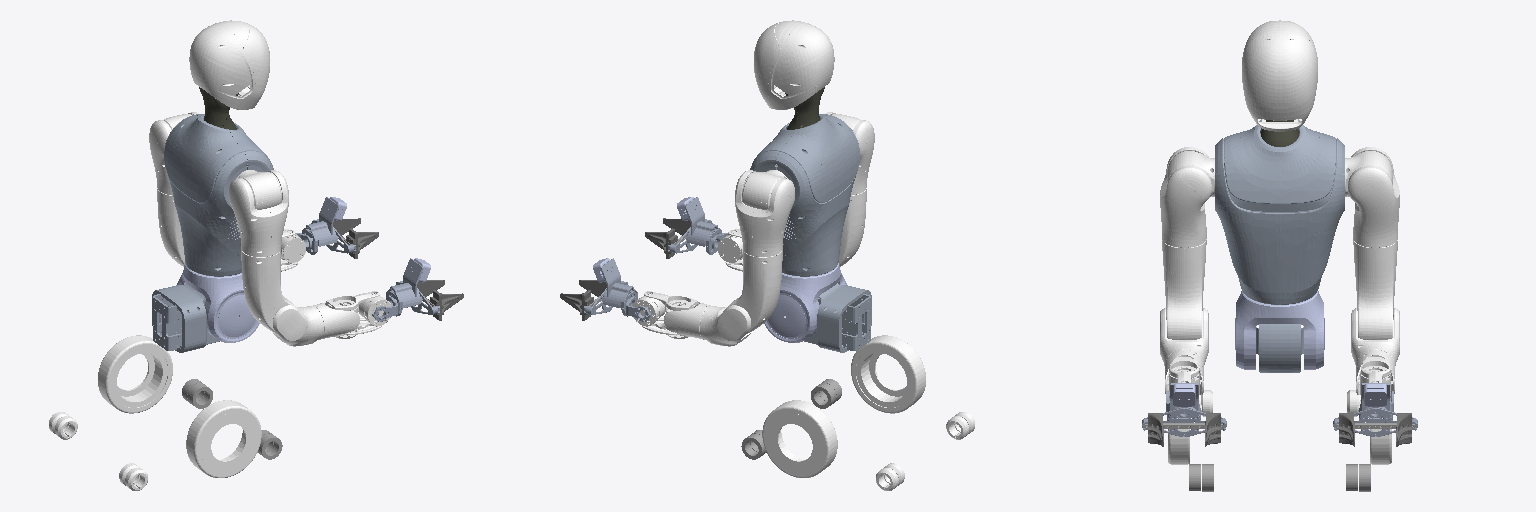
--- Render facts (derived) ---
3 views of the same robot in one strip: view 1: azimuth 30°, elevation 25°; view 2: azimuth 150°, elevation 25°; view 3: azimuth 270°, elevation 25° (orthographic).
Model ZR_H1PRO-1.2.00.H.V4.3_URDF_2025.12.02 with 35 links and 34 joints (18 revolute, 2 continuous, 5 prismatic, 9 fixed), rooted at dipan_link, posed all joints at 0.
Visible links, largest first — view 1: body_yaw_link, neck_pitch_link, right_middle_wheel_link, left_middle_wheel_link, daogui_link, body_pitch_link, right_shoulder_roll_link, right_shoulder_yaw_link, right_wrist_roll_link, right_elbow_link, right_wrist_pitch_link, left_wrist_pitch_link (+9 smaller); view 2: body_yaw_link, neck_pitch_link, left_middle_wheel_link, right_middle_wheel_link, daogui_link, body_pitch_link, left_shoulder_roll_link, left_shoulder_yaw_link, left_wrist_roll_link, left_elbow_link, left_wrist_pitch_link, right_wrist_pitch_link (+9 smaller); view 3: body_yaw_link, neck_pitch_link, body_pitch_link, right_shoulder_roll_link, left_shoulder_roll_link, left_shoulder_yaw_link, right_shoulder_yaw_link, daogui_link, right_wrist_roll_link, left_wrist_roll_link, left_wrist_pitch_link, right_wrist_pitch_link (+11 smaller).
Boxes of the visible links, bbox=[...] form: body_yaw_link: bbox=[164, 114, 273, 276]; neck_pitch_link: bbox=[189, 20, 269, 109]; right_middle_wheel_link: bbox=[186, 400, 261, 477]; left_middle_wheel_link: bbox=[98, 335, 172, 413]; daogui_link: bbox=[152, 283, 219, 352]; body_pitch_link: bbox=[177, 263, 259, 342]; right_shoulder_roll_link: bbox=[229, 170, 288, 256]; right_shoulder_yaw_link: bbox=[241, 250, 295, 333]; right_wrist_roll_link: bbox=[313, 291, 381, 338]; right_elbow_link: bbox=[270, 305, 323, 346]; right_wrist_pitch_link: bbox=[372, 258, 439, 321]; left_wrist_pitch_link: bbox=[296, 197, 355, 254]; body_yaw_link: bbox=[750, 114, 859, 276]; neck_pitch_link: bbox=[754, 20, 834, 109]; left_middle_wheel_link: bbox=[762, 400, 837, 477]; right_middle_wheel_link: bbox=[851, 335, 925, 413]; daogui_link: bbox=[804, 283, 871, 352]; body_pitch_link: bbox=[764, 263, 846, 342]; left_shoulder_roll_link: bbox=[735, 170, 794, 256]; left_shoulder_yaw_link: bbox=[728, 250, 782, 333]; left_wrist_roll_link: bbox=[642, 291, 710, 338]; left_elbow_link: bbox=[700, 305, 753, 346]; left_wrist_pitch_link: bbox=[584, 258, 651, 321]; right_wrist_pitch_link: bbox=[668, 197, 727, 254]; body_yaw_link: bbox=[1215, 119, 1344, 304]; neck_pitch_link: bbox=[1242, 20, 1317, 131]; body_pitch_link: bbox=[1235, 291, 1324, 369]; right_shoulder_roll_link: bbox=[1160, 147, 1211, 247]; left_shoulder_roll_link: bbox=[1348, 147, 1399, 247]; left_shoulder_yaw_link: bbox=[1353, 240, 1397, 339]; right_shoulder_yaw_link: bbox=[1162, 240, 1206, 339]; daogui_link: bbox=[1256, 324, 1303, 372]; right_wrist_roll_link: bbox=[1165, 350, 1203, 411]; left_wrist_roll_link: bbox=[1356, 350, 1394, 411]; left_wrist_pitch_link: bbox=[1333, 383, 1417, 436]; right_wrist_pitch_link: bbox=[1142, 383, 1226, 436].
Size in the robot's own frame: 0.7999 by 0.52 by 0.9583 metres.
33 mesh visuals loaded from 35 distinct referenced files (33 binary STL); not drawn: 2 (reference not matched to a file when rendering).

The robot description file, URDF, robot "ZR_H1PRO-1.2.00.H.V4.3_URDF_2025.12.02":
<?xml version="1.0" encoding="utf-8"?>
<!-- This URDF was automatically created by SolidWorks to URDF Exporter! Originally created by Stephen Brawner ([email redacted]) 
     Commit Version: 1.6.0-4-g7f85cfe  Build Version: 1.6.7995.38578
     For more information, please see http://wiki.ros.org/sw_urdf_exporter -->
<robot
  name="ZR_H1PRO-1.2.00.H.V4.3_URDF_2025.12.02">
  <link
    name="dipan_link">
    <inertial>
      <origin
        xyz="0.00021947 -0.00045719 0.08921288"
        rpy="0 0 0" />
      <mass
        value="92.40985888" />
      <inertia
        ixx="12.0810981"
        ixy="-0.00505423"
        ixz="1.25403037"
        iyy="12.71175466"
        iyz="-0.00705268"
        izz="2.84527064" />
    </inertial>
    <visual>
      <origin
        xyz="0 0 0"
        rpy="0 0 0" />
      <geometry>
        <mesh
          filename="package://ZR_H1PRO-1.2.00.H.V4.3_URDF_2025.12.02/meshes/dipan_link.STL" />
      </geometry>
      <material
        name="">
        <color
          rgba="1 1 1 1" />
      </material>
    </visual>
    <collision>
      <origin
        xyz="0 0 0"
        rpy="0 0 0" />
      <geometry>
        <mesh
          filename="package://ZR_H1PRO-1.2.00.H.V4.3_URDF_2025.12.02/meshes/dipan_link.STL" />
      </geometry>
    </collision>
  </link>
  <link
    name="daogui_link">
    <inertial>
      <origin
        xyz="0.11560518 0.00060964 0.12206768"
        rpy="0 0 0" />
      <mass
        value="4.61714" />
      <inertia
        ixx="0.00837134"
        ixy="9.116e-05"
        ixz="-0.00126268"
        iyy="0.02136748"
        iyz="-5.34e-06"
        izz="0.02010722" />
    </inertial>
    <visual>
      <origin
        xyz="0 0 0"
        rpy="0 0 0" />
      <geometry>
        <mesh
          filename="package://ZR_H1PRO-1.2.00.H.V4.3_URDF_2025.12.02/meshes/daogui_link.STL" />
      </geometry>
      <material
        name="">
        <color
          rgba="0.66667 0.70588 0.76471 1" />
      </material>
    </visual>
    <collision>
      <origin
        xyz="0 0 0"
        rpy="0 0 0" />
      <geometry>
        <mesh
          filename="package://ZR_H1PRO-1.2.00.H.V4.3_URDF_2025.12.02/meshes/daogui_link.STL" />
      </geometry>
    </collision>
  </link>
  <joint
    name="daogui_joint"
    type="prismatic">
    <origin
      xyz="0 0 0"
      rpy="0 0 0" />
    <parent
      link="dipan_link" />
    <child
      link="daogui_link" />
    <axis
      xyz="0 0 1" />
    <limit
      lower="0"
      upper="0.8"
      effort="0"
      velocity="0" />
  </joint>
  <link
    name="body_pitch_link">
    <inertial>
      <origin
        xyz="-0.00013249 0.00049551 0.10848426"
        rpy="0 0 0" />
      <mass
        value="3.528" />
      <inertia
        ixx="0.01235314"
        ixy="-9.38e-06"
        ixz="6.133e-05"
        iyy="0.01092549"
        iyz="0.00020606"
        izz="0.00739427" />
    </inertial>
    <visual>
      <origin
        xyz="0 0 0"
        rpy="0 0 0" />
      <geometry>
        <mesh
          filename="package://ZR_H1PRO-1.2.00.H.V4.3_URDF_2025.12.02/meshes/body_pitch_link.STL" />
      </geometry>
      <material
        name="">
        <color
          rgba="0.79216 0.81961 0.93333 1" />
      </material>
    </visual>
    <collision>
      <origin
        xyz="0 0 0"
        rpy="0 0 0" />
      <geometry>
        <mesh
          filename="package://ZR_H1PRO-1.2.00.H.V4.3_URDF_2025.12.02/meshes/body_pitch_link.STL" />
      </geometry>
    </collision>
  </link>
  <joint
    name="body_pitch_joint"
    type="revolute">
    <origin
      xyz="0.1518 0 0.1275"
      rpy="0 0 0" />
    <parent
      link="daogui_link" />
    <child
      link="body_pitch_link" />
    <axis
      xyz="0 1 0" />
    <limit
      lower="-0.05236"
      upper="1.309"
      effort="204"
      velocity="3.14" />
  </joint>
  <link
    name="body_yaw_link">
    <inertial>
      <origin
        xyz="-0.00140951 0.00031062 0.13782806"
        rpy="0 0 0" />
      <mass
        value="3.85886409" />
      <inertia
        ixx="0.03623808"
        ixy="-3.118e-05"
        ixz="0.00019346"
        iyy="0.02298934"
        iyz="3.738e-05"
        izz="0.02244436" />
    </inertial>
    <visual>
      <origin
        xyz="0 0 0"
        rpy="0 0 0" />
      <geometry>
        <mesh
          filename="package://ZR_H1PRO-1.2.00.H.V4.3_URDF_2025.12.02/meshes/body_yaw_link.STL" />
      </geometry>
      <material
        name="">
        <color
          rgba="0.66667 0.70588 0.76471 1" />
      </material>
    </visual>
    <collision>
      <origin
        xyz="0 0 0"
        rpy="0 0 0" />
      <geometry>
        <mesh
          filename="package://ZR_H1PRO-1.2.00.H.V4.3_URDF_2025.12.02/meshes/body_yaw_link.STL" />
      </geometry>
    </collision>
  </link>
  <joint
    name="body_yaw_joint"
    type="revolute">
    <origin
      xyz="2.7149E-05 -0.00012105 0.1572"
      rpy="0 0 0" />
    <parent
      link="body_pitch_link" />
    <child
      link="body_yaw_link" />
    <axis
      xyz="0 0 1" />
    <limit
      lower="-1.0472"
      upper="1.0472"
      effort="204"
      velocity="3.14" />
  </joint>
  <link
    name="left_shoulder_pitch_link">
    <inertial>
      <origin
        xyz="-0.00318713 0.04899419 0.00017253"
        rpy="0 0 0" />
      <mass
        value="0.64195" />
      <inertia
        ixx="0.00045222"
        ixy="4.1e-06"
        ixz="1.97e-06"
        iyy="0.00047136"
        iyz="-1.26e-06"
        izz="0.00059588" />
    </inertial>
    <visual>
      <origin
        xyz="0 0 0"
        rpy="0 0 0" />
      <geometry>
        <mesh
          filename="package://ZR_H1PRO-1.2.00.H.V4.3_URDF_2025.12.02/meshes/left_shoulder_pitch_link.STL" />
      </geometry>
      <material
        name="">
        <color
          rgba="1 1 1 1" />
      </material>
    </visual>
    <collision>
      <origin
        xyz="0 0 0"
        rpy="0 0 0" />
      <geometry>
        <mesh
          filename="package://ZR_H1PRO-1.2.00.H.V4.3_URDF_2025.12.02/meshes/left_shoulder_pitch_link.STL" />
      </geometry>
    </collision>
  </link>
  <joint
    name="left_shoulder_pitch_joint"
    type="revolute">
    <origin
      xyz="-0.00021966 0.11612 0.16797"
      rpy="0 0 0" />
    <parent
      link="body_yaw_link" />
    <child
      link="left_shoulder_pitch_link" />
    <axis
      xyz="0 1 0" />
    <limit
      lower="-2.7925"
      upper="1.5708"
      effort="36"
      velocity="8.164" />
  </joint>
  <link
    name="left_shoulder_roll_link">
    <inertial>
      <origin
        xyz="0.00026688 0.00923491 -0.07177934"
        rpy="0 0 0" />
      <mass
        value="0.74474" />
      <inertia
        ixx="0.00140268"
        ixy="5.1e-06"
        ixz="-3.427e-05"
        iyy="0.00171477"
        iyz="5.976e-05"
        izz="0.00086884" />
    </inertial>
    <visual>
      <origin
        xyz="0 0 0"
        rpy="0 0 0" />
      <geometry>
        <mesh
          filename="package://ZR_H1PRO-1.2.00.H.V4.3_URDF_2025.12.02/meshes/left_shoulder_roll_link.STL" />
      </geometry>
      <material
        name="">
        <color
          rgba="1 1 1 1" />
      </material>
    </visual>
    <collision>
      <origin
        xyz="0 0 0"
        rpy="0 0 0" />
      <geometry>
        <mesh
          filename="package://ZR_H1PRO-1.2.00.H.V4.3_URDF_2025.12.02/meshes/left_shoulder_roll_link.STL" />
      </geometry>
    </collision>
  </link>
  <joint
    name="left_shoulder_roll_joint"
    type="revolute">
    <origin
      xyz="0.00019251 0.054 0.00013479"
      rpy="0 0 0" />
    <parent
      link="left_shoulder_pitch_link" />
    <child
      link="left_shoulder_roll_link" />
    <axis
      xyz="1 0 0" />
    <limit
      lower="-0.5236"
      upper="2.0944"
      effort="36"
      velocity="8.164" />
  </joint>
  <link
    name="left_shoulder_yaw_link">
    <inertial>
      <origin
        xyz="0.02386961 -0.00041351 -0.12487547"
        rpy="0 0 0" />
      <mass
        value="0.86464" />
      <inertia
        ixx="0.0031744"
        ixy="5.93e-06"
        ixz="0.00082261"
        iyy="0.00347038"
        iyz="-1.674e-05"
        izz="0.00088318" />
    </inertial>
    <visual>
      <origin
        xyz="0 0 0"
        rpy="0 0 0" />
      <geometry>
        <mesh
          filename="package://ZR_H1PRO-1.2.00.H.V4.3_URDF_2025.12.02/meshes/left_shoulder_yaw_link.STL" />
      </geometry>
      <material
        name="">
        <color
          rgba="1 1 1 1" />
      </material>
    </visual>
    <collision>
      <origin
        xyz="0 0 0"
        rpy="0 0 0" />
      <geometry>
        <mesh
          filename="package://ZR_H1PRO-1.2.00.H.V4.3_URDF_2025.12.02/meshes/left_shoulder_yaw_link.STL" />
      </geometry>
    </collision>
  </link>
  <joint
    name="left_shoulder_yaw_joint"
    type="revolute">
    <origin
      xyz="0 0.01 -0.12225"
      rpy="0 0 0" />
    <parent
      link="left_shoulder_roll_link" />
    <child
      link="left_shoulder_yaw_link" />
    <axis
      xyz="0 0 1" />
    <limit
      lower="-2.9671"
      upper="2.9671"
      effort="27"
      velocity="7.3267" />
  </joint>
  <link
    name="left_elbow_link">
    <inertial>
      <origin
        xyz="0.03098556 0.00057542 -0.0288024"
        rpy="0 0 0" />
      <mass
        value="0.33048" />
      <inertia
        ixx="0.0004881"
        ixy="1.78e-06"
        ixz="0.00012277"
        iyy="0.00048504"
        iyz="-2.1e-06"
        izz="0.00054349" />
    </inertial>
    <visual>
      <origin
        xyz="0 0 0"
        rpy="0 0 0" />
      <geometry>
        <mesh
          filename="package://ZR_H1PRO-1.2.00.H.V4.3_URDF_2025.12.02/meshes/left_elbow_link.STL" />
      </geometry>
      <material
        name="">
        <color
          rgba="1 1 1 1" />
      </material>
    </visual>
    <collision>
      <origin
        xyz="0 0 0"
        rpy="0 0 0" />
      <geometry>
        <mesh
          filename="package://ZR_H1PRO-1.2.00.H.V4.3_URDF_2025.12.02/meshes/left_elbow_link.STL" />
      </geometry>
    </collision>
  </link>
  <joint
    name="left_elbow_joint"
    type="revolute">
    <origin
      xyz="0.042 0 -0.16775"
      rpy="0 0 0" />
    <parent
      link="left_shoulder_yaw_link" />
    <child
      link="left_elbow_link" />
    <axis
      xyz="0 1 0" />
    <limit
      lower="-1.5184"
      upper="1.5708"
      effort="27"
      velocity="7.3267" />
  </joint>
  <link
    name="left_wrist_roll_link">
    <inertial>
      <origin
        xyz="0.06375062 -5.405e-05 -0.0009515"
        rpy="0 0 0" />
      <mass
        value="0.865677" />
      <inertia
        ixx="0.00052491"
        ixy="-6.1e-07"
        ixz="3.461e-05"
        iyy="0.00159541"
        iyz="6.3e-07"
        izz="0.00149224" />
    </inertial>
    <visual>
      <origin
        xyz="0 0 0"
        rpy="0 0 0" />
      <geometry>
        <mesh
          filename="package://ZR_H1PRO-1.2.00.H.V4.3_URDF_2025.12.02/meshes/left_wrist_roll_link.STL" />
      </geometry>
      <material
        name="">
        <color
          rgba="1 1 1 1" />
      </material>
    </visual>
    <collision>
      <origin
        xyz="0 0 0"
        rpy="0 0 0" />
      <geometry>
        <mesh
          filename="package://ZR_H1PRO-1.2.00.H.V4.3_URDF_2025.12.02/meshes/left_wrist_roll_link.STL" />
      </geometry>
    </collision>
  </link>
  <joint
    name="left_wrist_roll_joint"
    type="revolute">
    <origin
      xyz="0.07422 0 -0.042"
      rpy="0 0 0" />
    <parent
      link="left_elbow_link" />
    <child
      link="left_wrist_roll_link" />
    <axis
      xyz="1 0 0" />
    <limit
      lower="-2.9671"
      upper="2.9671"
      effort="0"
      velocity="0" />
  </joint>
  <link
    name="left_wrist_yaw_link">
    <inertial>
      <origin
        xyz="0.0 0.0033242 -0.00085429"
        rpy="0 0 0" />
      <mass
        value="0.344922" />
      <inertia
        ixx="0.00015509"
        ixy="-0.0"
        ixz="3e-08"
        iyy="0.00016396"
        iyz="-2.04e-06"
        izz="0.0001271" />
    </inertial>
    <visual>
      <origin
        xyz="0 0 0"
        rpy="0 0 0" />
      <geometry>
        <mesh
          filename="package://ZR_H1PRO-1.2.00.H.V4.3_URDF_2025.12.02/meshes/left_wrist_yaw_link.STL" />
      </geometry>
      <material
        name="">
        <color
          rgba="1 1 1 1" />
      </material>
    </visual>
    <collision>
      <origin
        xyz="0 0 0"
        rpy="0 0 0" />
      <geometry>
        <mesh
          filename="package://ZR_H1PRO-1.2.00.H.V4.3_URDF_2025.12.02/meshes/left_wrist_yaw_link.STL" />
      </geometry>
    </collision>
  </link>
  <joint
    name="left_wrist_yaw_joint"
    type="revolute">
    <origin
      xyz="0.16278 0 0"
      rpy="0 0 0" />
    <parent
      link="left_wrist_roll_link" />
    <child
      link="left_wrist_yaw_link" />
    <axis
      xyz="0 0 1" />
    <limit
      lower="-1.0472"
      upper="1.0472"
      effort="9"
      velocity="16.747" />
  </joint>
  <link
    name="left_wrist_pitch_link">
    <inertial>
      <origin
        xyz="0.07825733 0.00143511 0.00315751"
        rpy="0 0 0" />
      <mass
        value="0.5139" />
      <inertia
        ixx="0.00046134"
        ixy="4.762e-05"
        ixz="-1.314e-05"
        iyy="0.00044669"
        iyz="-5.2e-07"
        izz="0.00060413" />
    </inertial>
    <visual>
      <origin
        xyz="0 0 0"
        rpy="0 0 0" />
      <geometry>
        <mesh
          filename="package://ZR_H1PRO-1.2.00.H.V4.3_URDF_2025.12.02/meshes/left_wrist_pitch_link.STL" />
      </geometry>
      <material
        name="">
        <color
          rgba="0.66667 0.69804 0.76863 1" />
      </material>
    </visual>
    <collision>
      <origin
        xyz="0 0 0"
        rpy="0 0 0" />
      <geometry>
        <mesh
          filename="package://ZR_H1PRO-1.2.00.H.V4.3_URDF_2025.12.02/meshes/left_wrist_pitch_link.STL" />
      </geometry>
    </collision>
  </link>
  <joint
    name="left_wrist_pitch_joint"
    type="revolute">
    <origin
      xyz="0 0 0"
      rpy="0 0 0" />
    <parent
      link="left_wrist_yaw_link" />
    <child
      link="left_wrist_pitch_link" />
    <axis
      xyz="0 1 0" />
    <limit
      lower="-1.0472"
      upper="1.0472"
      effort="9"
      velocity="16.747" />
  </joint>
  <link
    name="left_jaw_left_finger_link">
    <inertial>
      <origin
        xyz="0.02875166 0.04972677 -0.00087113"
        rpy="0 0 0" />
      <mass
        value="0.057096" />
      <inertia
        ixx="1.643e-05"
        ixy="2.46e-06"
        ixz="1.89e-06"
        iyy="2.627e-05"
        iyz="4.7e-07"
        izz="2.05e-05" />
    </inertial>
    <visual>
      <origin
        xyz="0 0 0"
        rpy="0 0 0" />
      <geometry>
        <mesh
          filename="package://ZR_H1PRO-1.2.00.H.V4.3_URDF_2025.12.02/meshes/left_jaw_left_finger_link.STL" />
      </geometry>
      <material
        name="">
        <color
          rgba="0.49804 0.49804 0.49804 1" />
      </material>
    </visual>
    <collision>
      <origin
        xyz="0 0 0"
        rpy="0 0 0" />
      <geometry>
        <mesh
          filename="package://ZR_H1PRO-1.2.00.H.V4.3_URDF_2025.12.02/meshes/left_jaw_left_finger_link.STL" />
      </geometry>
    </collision>
  </link>
  <joint
    name="left_jaw_left_finger_joint"
    type="prismatic">
    <origin
      xyz="0.102 0 0"
      rpy="0 0 0" />
    <parent
      link="left_wrist_pitch_link" />
    <child
      link="left_jaw_left_finger_link" />
    <axis
      xyz="0 1 0" />
    <limit
      lower="-0.04"
      upper="0"
      effort="120"
      velocity="0.25" />
  </joint>
  <link
    name="left_jaw_right_finger_link">
    <inertial>
      <origin
        xyz="0.02884254 -0.05065805 -0.00142222"
        rpy="0 0 0" />
      <mass
        value="0.057987" />
      <inertia
        ixx="1.518e-05"
        ixy="-3.71e-06"
        ixz="1.14e-06"
        iyy="2.561e-05"
        iyz="3.1e-07"
        izz="1.872e-05" />
    </inertial>
    <visual>
      <origin
        xyz="0 0 0"
        rpy="0 0 0" />
      <geometry>
        <mesh
          filename="package://ZR_H1PRO-1.2.00.H.V4.3_URDF_2025.12.02/meshes/left_jaw_right_finger_link.STL" />
      </geometry>
      <material
        name="">
        <color
          rgba="0.49804 0.49804 0.49804 1" />
      </material>
    </visual>
    <collision>
      <origin
        xyz="0 0 0"
        rpy="0 0 0" />
      <geometry>
        <mesh
          filename="package://ZR_H1PRO-1.2.00.H.V4.3_URDF_2025.12.02/meshes/left_jaw_right_finger_link.STL" />
      </geometry>
    </collision>
  </link>
  <joint
    name="left_jaw_right_finger_joint"
    type="prismatic">
    <origin
      xyz="0.102 0 0"
      rpy="0 0 0" />
    <parent
      link="left_wrist_pitch_link" />
    <child
      link="left_jaw_right_finger_link" />
    <axis
      xyz="0 1 0" />
    <limit
      lower="0"
      upper="0.04"
      effort="120"
      velocity="0.25" />
  </joint>
  <link
    name="left_jaw_camera_link">
    <inertial>
      <origin
        xyz="0.0 0.005 -0.01561719"
        rpy="0 0 0" />
      <mass
        value="0.05789" />
      <inertia
        ixx="1.081e-05"
        ixy="-0.0"
        ixz="-0.0"
        iyy="1.08e-05"
        iyz="-0.0"
        izz="1.658e-05" />
    </inertial>
    <visual>
      <origin
        xyz="0 0 0"
        rpy="0 0 0" />
      <geometry>
        <mesh
          filename="package://ZR_H1PRO-1.2.00.H.V4.3_URDF_2025.12.02/meshes/left_jaw_camera_link.STL" />
      </geometry>
      <material
        name="">
        <color
          rgba="0.79216 0.81961 0.93333 1" />
      </material>
    </visual>
    <collision>
      <origin
        xyz="0 0 0"
        rpy="0 0 0" />
      <geometry>
        <mesh
          filename="package://ZR_H1PRO-1.2.00.H.V4.3_URDF_2025.12.02/meshes/left_jaw_camera_link.STL" />
      </geometry>
    </collision>
  </link>
  <joint
    name="left_jaw_camera_joint"
    type="fixed">
    <origin
      xyz="0.11933 0.009 0.060373"
      rpy="-2.0071 0 -1.5708" />
    <parent
      link="left_wrist_pitch_link" />
    <child
      link="left_jaw_camera_link" />
    <axis
      xyz="0 0 0" />
  </joint>
  <link
    name="left_end_effector_link">
    <inertial>
      <origin
        xyz="-0.027172 -5.6108E-09 1.2941E-06"
        rpy="0 0 0" />
      <mass
        value="0.0066601" />
      <inertia
        ixx="1.2345E-05"
        ixy="-7.5727E-14"
        ixz="2.3275E-11"
        iyy="6.5495E-08"
        iyz="-8.2193E-15"
        izz="1.232E-05" />
    </inertial>
    <visual>
      <origin
        xyz="0 0 0"
        rpy="0 0 0" />
      <geometry>
        <mesh
          filename="package://ZR_H1PRO-1.2.00.H.V4.3_URDF_2025.12.02/meshes/left_end_effector_link.STL" />
      </geometry>
      <material
        name="">
        <color
          rgba="0.68627 0.68627 0.68627 1" />
      </material>
    </visual>
    <collision>
      <origin
        xyz="0 0 0"
        rpy="0 0 0" />
      <geometry>
        <mesh
          filename="package://ZR_H1PRO-1.2.00.H.V4.3_URDF_2025.12.02/meshes/left_end_effector_link.STL" />
      </geometry>
    </collision>
  </link>
  <joint
    name="left_end_effector_joint"
    type="fixed">
    <origin
      xyz="0.1435 0 0"
      rpy="0 0 0" />
    <parent
      link="left_wrist_pitch_link" />
    <child
      link="left_end_effector_link" />
    <axis
      xyz="0 0 0" />
  </joint>
  <link
    name="right_shoulder_pitch_link">
    <inertial>
      <origin
        xyz="-0.00296457 -0.04904683 3.797e-05"
        rpy="0 0 0" />
      <mass
        value="0.64101" />
      <inertia
        ixx="0.00045089"
        ixy="-2.81e-06"
        ixz="2e-06"
        iyy="0.00047256"
        iyz="1.25e-06"
        izz="0.00059577" />
    </inertial>
    <visual>
      <origin
        xyz="0 0 0"
        rpy="0 0 0" />
      <geometry>
        <mesh
          filename="package://ZR_H1PRO-1.2.00.H.V4.3_URDF_2025.12.02/meshes/right_shoulder_pitch_link.STL" />
      </geometry>
      <material
        name="">
        <color
          rgba="1 1 1 1" />
      </material>
    </visual>
    <collision>
      <origin
        xyz="0 0 0"
        rpy="0 0 0" />
      <geometry>
        <mesh
          filename="package://ZR_H1PRO-1.2.00.H.V4.3_URDF_2025.12.02/meshes/right_shoulder_pitch_link.STL" />
      </geometry>
    </collision>
  </link>
  <joint
    name="right_shoulder_pitch_joint"
    type="revolute">
    <origin
      xyz="-2.7149E-05 -0.11588 0.1681"
      rpy="0 0 0" />
    <parent
      link="body_yaw_link" />
    <child
      link="right_shoulder_pitch_link" />
    <axis
      xyz="0 1 0" />
    <limit
      lower="-2.7925"
      upper="1.5708"
      effort="36"
      velocity="8.164" />
  </joint>
  <link
    name="right_shoulder_roll_link">
    <inertial>
      <origin
        xyz="-0.00133187 -0.00922469 -0.07161686"
        rpy="0 0 0" />
      <mass
        value="0.74679" />
      <inertia
        ixx="0.00139598"
        ixy="5.44e-06"
        ixz="5.175e-05"
        iyy="0.00171725"
        iyz="-6.198e-05"
        izz="0.00087417" />
    </inertial>
    <visual>
      <origin
        xyz="0 0 0"
        rpy="0 0 0" />
      <geometry>
        <mesh
          filename="package://ZR_H1PRO-1.2.00.H.V4.3_URDF_2025.12.02/meshes/right_shoulder_roll_link.STL" />
      </geometry>
      <material
        name="">
        <color
          rgba="1 1 1 1" />
      </material>
    </visual>
    <collision>
      <origin
        xyz="0 0 0"
        rpy="0 0 0" />
      <geometry>
        <mesh
          filename="package://ZR_H1PRO-1.2.00.H.V4.3_URDF_2025.12.02/meshes/right_shoulder_roll_link.STL" />
      </geometry>
    </collision>
  </link>
  <joint
    name="right_shoulder_roll_joint"
    type="revolute">
    <origin
      xyz="0 -0.054 0"
      rpy="0 0 0" />
    <parent
      link="right_shoulder_pitch_link" />
    <child
      link="right_shoulder_roll_link" />
    <axis
      xyz="1 0 0" />
    <limit
      lower="-2.0944"
      upper="0.5236"
      effort="36"
      velocity="8.164" />
  </joint>
  <link
    name="right_shoulder_yaw_link">
    <inertial>
      <origin
        xyz="0.0239688 0.00071183 -0.1239035"
        rpy="0 0 0" />
      <mass
        value="0.876" />
      <inertia
        ixx="0.00321433"
        ixy="-1.109e-05"
        ixz="0.00082281"
        iyy="0.00352394"
        iyz="2.732e-05"
        izz="0.0008837" />
    </inertial>
    <visual>
      <origin
        xyz="0 0 0"
        rpy="0 0 0" />
      <geometry>
        <mesh
          filename="package://ZR_H1PRO-1.2.00.H.V4.3_URDF_2025.12.02/meshes/right_shoulder_yaw_link.STL" />
      </geometry>
      <material
        name="">
        <color
          rgba="1 1 1 1" />
      </material>
    </visual>
    <collision>
      <origin
        xyz="0 0 0"
        rpy="0 0 0" />
      <geometry>
        <mesh
          filename="package://ZR_H1PRO-1.2.00.H.V4.3_URDF_2025.12.02/meshes/right_shoulder_yaw_link.STL" />
      </geometry>
    </collision>
  </link>
  <joint
    name="right_shoulder_yaw_joint"
    type="revolute">
    <origin
      xyz="0 -0.01 -0.12225"
      rpy="0 0 0" />
    <parent
      link="right_shoulder_roll_link" />
    <child
      link="right_shoulder_yaw_link" />
    <axis
      xyz="0 0 1" />
    <limit
      lower="-2.9671"
      upper="2.9671"
      effort="27"
      velocity="7.3267" />
  </joint>
  <link
    name="right_elbow_link">
    <inertial>
      <origin
        xyz="0.03112194 -0.0007412 -0.02933948"
        rpy="0 0 0" />
      <mass
        value="0.33678" />
      <inertia
        ixx="0.00049435"
        ixy="-1.58e-06"
        ixz="0.00012405"
        iyy="0.00049082"
        iyz="3.2e-07"
        izz="0.00054512" />
    </inertial>
    <visual>
      <origin
        xyz="0 0 0"
        rpy="0 0 0" />
      <geometry>
        <mesh
          filename="package://ZR_H1PRO-1.2.00.H.V4.3_URDF_2025.12.02/meshes/right_elbow_link.STL" />
      </geometry>
      <material
        name="">
        <color
          rgba="1 1 1 1" />
      </material>
    </visual>
    <collision>
      <origin
        xyz="0 0 0"
        rpy="0 0 0" />
      <geometry>
        <mesh
          filename="package://ZR_H1PRO-1.2.00.H.V4.3_URDF_2025.12.02/meshes/right_elbow_link.STL" />
      </geometry>
    </collision>
  </link>
  <joint
    name="right_elbow_joint"
    type="revolute">
    <origin
      xyz="0.042 0 -0.16775"
      rpy="0 0 0" />
    <parent
      link="right_shoulder_yaw_link" />
    <child
      link="right_elbow_link" />
    <axis
      xyz="0 1 0" />
    <limit
      lower="-1.5184"
      upper="1.5708"
      effort="27"
      velocity="7.3267" />
  </joint>
  <link
    name="right_wrist_roll_link">
    <inertial>
      <origin
        xyz="0.06371011 -6.085e-05 -0.0009271"
        rpy="0 0 0" />
      <mass
        value="0.86459" />
      <inertia
        ixx="0.00052336"
        ixy="-6.6e-07"
        ixz="3.426e-05"
        iyy="0.00159313"
        iyz="7.8e-07"
        izz="0.00149055" />
    </inertial>
    <visual>
      <origin
        xyz="0 0 0"
        rpy="0 0 0" />
      <geometry>
        <mesh
          filename="package://ZR_H1PRO-1.2.00.H.V4.3_URDF_2025.12.02/meshes/right_wrist_roll_link.STL" />
      </geometry>
      <material
        name="">
        <color
          rgba="1 1 1 1" />
      </material>
    </visual>
    <collision>
      <origin
        xyz="0 0 0"
        rpy="0 0 0" />
      <geometry>
        <mesh
          filename="package://ZR_H1PRO-1.2.00.H.V4.3_URDF_2025.12.02/meshes/right_wrist_roll_link.STL" />
      </geometry>
    </collision>
  </link>
  <joint
    name="right_wrist_roll_joint"
    type="revolute">
    <origin
      xyz="0.07422 0 -0.042"
      rpy="0 0 0" />
    <parent
      link="right_elbow_link" />
    <child
      link="right_wrist_roll_link" />
    <axis
      xyz="1 0 0" />
    <limit
      lower="-2.9671"
      upper="2.9671"
      effort="9"
      velocity="16.747" />
  </joint>
  <link
    name="right_wrist_yaw_link">
    <inertial>
      <origin
        xyz="0.0 -0.00328156 -0.00077334"
        rpy="0 0 0" />
      <mass
        value="0.344042" />
      <inertia
        ixx="0.00015395"
        ixy="-0.0"
        ixz="-3e-08"
        iyy="0.00016307"
        iyz="2.5e-06"
        izz="0.00012685" />
    </inertial>
    <visual>
      <origin
        xyz="0 0 0"
        rpy="0 0 0" />
      <geometry>
        <mesh
          filename="package://ZR_H1PRO-1.2.00.H.V4.3_URDF_2025.12.02/meshes/right_wrist_yaw_link.STL" />
      </geometry>
      <material
        name="">
        <color
          rgba="1 1 1 1" />
      </material>
    </visual>
    <collision>
      <origin
        xyz="0 0 0"
        rpy="0 0 0" />
      <geometry>
        <mesh
          filename="package://ZR_H1PRO-1.2.00.H.V4.3_URDF_2025.12.02/meshes/right_wrist_yaw_link.STL" />
      </geometry>
    </collision>
  </link>
  <joint
    name="right_wrist_yaw_joint"
    type="revolute">
    <origin
      xyz="0.16278 0 0"
      rpy="0 0 0" />
    <parent
      link="right_wrist_roll_link" />
    <child
      link="right_wrist_yaw_link" />
    <axis
      xyz="0 0 1" />
    <limit
      lower="-1.0472"
      upper="1.0472"
      effort="9"
      velocity="16.747" />
  </joint>
  <link
    name="right_wrist_pitch_link">
    <inertial>
      <origin
        xyz="0.07825729 -0.00152809 0.00315775"
        rpy="0 0 0" />
      <mass
        value="0.5139" />
      <inertia
        ixx="0.0004612"
        ixy="-4.866e-05"
        ixz="-1.313e-05"
        iyy="0.00044669"
        iyz="-5.33e-06"
        izz="0.00060399" />
    </inertial>
    <visual>
      <origin
        xyz="0 0 0"
        rpy="0 0 0" />
      <geometry>
        <mesh
          filename="package://ZR_H1PRO-1.2.00.H.V4.3_URDF_2025.12.02/meshes/right_wrist_pitch_link.STL" />
      </geometry>
      <material
        name="">
        <color
          rgba="0.66667 0.69804 0.76863 1" />
      </material>
    </visual>
    <collision>
      <origin
        xyz="0 0 0"
        rpy="0 0 0" />
      <geometry>
        <mesh
          filename="package://ZR_H1PRO-1.2.00.H.V4.3_URDF_2025.12.02/meshes/right_wrist_pitch_link.STL" />
      </geometry>
    </collision>
  </link>
  <joint
    name="right_wrist_pitch_joint"
    type="revolute">
    <origin
      xyz="0 0 0"
      rpy="0 0 0" />
    <parent
      link="right_wrist_yaw_link" />
    <child
      link="right_wrist_pitch_link" />
    <axis
      xyz="0 1 0" />
    <limit
      lower="-1.0472"
      upper="1.0472"
      effort="9"
      velocity="16.747" />
  </joint>
  <link
    name="right_jaw_left_finger_link">
    <inertial>
      <origin
        xyz="0.02884538 0.0506592 -0.00142357"
        rpy="0 0 0" />
      <mass
        value="0.057986" />
      <inertia
        ixx="1.518e-05"
        ixy="3.71e-06"
        ixz="1.13e-06"
        iyy="2.562e-05"
        iyz="-3.1e-07"
        izz="1.874e-05" />
    </inertial>
    <visual>
      <origin
        xyz="0 0 0"
        rpy="0 0 0" />
      <geometry>
        <mesh
          filename="package://ZR_H1PRO-1.2.00.H.V4.3_URDF_2025.12.02/meshes/right_jaw_left_finger_link.STL" />
      </geometry>
      <material
        name="">
        <color
          rgba="0.49804 0.49804 0.49804 1" />
      </material>
    </visual>
    <collision>
      <origin
        xyz="0 0 0"
        rpy="0 0 0" />
      <geometry>
        <mesh
          filename="package://ZR_H1PRO-1.2.00.H.V4.3_URDF_2025.12.02/meshes/right_jaw_left_finger_link.STL" />
      </geometry>
    </collision>
  </link>
  <joint
    name="right_jaw_left_finger_joint"
    type="prismatic">
    <origin
      xyz="0.102 0 0"
      rpy="0 0 0" />
    <parent
      link="right_wrist_pitch_link" />
    <child
      link="right_jaw_left_finger_link" />
    <axis
      xyz="0 1 0" />
    <limit
      lower="-0.04"
      upper="0"
      effort="120"
      velocity="0.25" />
  </joint>
  <link
    name="right_jaw_right_finger_link">
    <inertial>
      <origin
        xyz="0.02884278 -0.05065791 -0.00142222"
        rpy="0 0 0" />
      <mass
        value="0.057987" />
      <inertia
        ixx="1.518e-05"
        ixy="-3.71e-06"
        ixz="1.14e-06"
        iyy="2.561e-05"
        iyz="3.1e-07"
        izz="1.872e-05" />
    </inertial>
    <visual>
      <origin
        xyz="0 0 0"
        rpy="0 0 0" />
      <geometry>
        <mesh
          filename="package://ZR_H1PRO-1.2.00.H.V4.3_URDF_2025.12.02/meshes/right_jaw_right_finger_link.STL" />
      </geometry>
      <material
        name="">
        <color
          rgba="0.49804 0.49804 0.49804 1" />
      </material>
    </visual>
    <collision>
      <origin
        xyz="0 0 0"
        rpy="0 0 0" />
      <geometry>
        <mesh
          filename="package://ZR_H1PRO-1.2.00.H.V4.3_URDF_2025.12.02/meshes/right_jaw_right_finger_link.STL" />
      </geometry>
    </collision>
  </link>
  <joint
    name="right_jaw_right_finger_joint"
    type="prismatic">
    <origin
      xyz="0.102 0 0"
      rpy="0 0 0" />
    <parent
      link="right_wrist_pitch_link" />
    <child
      link="right_jaw_right_finger_link" />
    <axis
      xyz="0 1 0" />
    <limit
      lower="0"
      upper="0.04"
      effort="120"
      velocity="0.25" />
  </joint>
  <link
    name="right_jaw_camera_link">
    <inertial>
      <origin
        xyz="0.0 0.005 -0.01561719"
        rpy="0 0 0" />
      <mass
        value="0.05789" />
      <inertia
        ixx="1.081e-05"
        ixy="-0.0"
        ixz="-0.0"
        iyy="1.08e-05"
        iyz="-0.0"
        izz="1.658e-05" />
    </inertial>
    <visual>
      <origin
        xyz="0 0 0"
        rpy="0 0 0" />
      <geometry>
        <mesh
          filename="package://ZR_H1PRO-1.2.00.H.V4.3_URDF_2025.12.02/meshes/right_jaw_camera_link.STL" />
      </geometry>
      <material
        name="">
        <color
          rgba="0.79216 0.81961 0.93333 1" />
      </material>
    </visual>
    <collision>
      <origin
        xyz="0 0 0"
        rpy="0 0 0" />
      <geometry>
        <mesh
          filename="package://ZR_H1PRO-1.2.00.H.V4.3_URDF_2025.12.02/meshes/right_jaw_camera_link.STL" />
      </geometry>
    </collision>
  </link>
  <joint
    name="right_jaw_camera_joint"
    type="fixed">
    <origin
      xyz="0.11933 0.0090006 0.060373"
      rpy="-2.0071 0 -1.5708" />
    <parent
      link="right_wrist_pitch_link" />
    <child
      link="right_jaw_camera_link" />
    <axis
      xyz="0 0 0" />
  </joint>
  <link
    name="right_end_effector_link">
    <inertial>
      <origin
        xyz="-0.027172 -1.3538E-07 1.2941E-06"
        rpy="0 0 0" />
      <mass
        value="0.0066601" />
      <inertia
        ixx="1.2345E-05"
        ixy="5.8568E-11"
        ixz="2.3275E-11"
        iyy="6.5495E-08"
        iyz="-8.108E-15"
        izz="1.232E-05" />
    </inertial>
    <visual>
      <origin
        xyz="0 0 0"
        rpy="0 0 0" />
      <geometry>
        <mesh
          filename="package://ZR_H1PRO-1.2.00.H.V4.3_URDF_2025.12.02/meshes/right_end_effector_link.STL" />
      </geometry>
      <material
        name="">
        <color
          rgba="0.68627 0.68627 0.68627 1" />
      </material>
    </visual>
    <collision>
      <origin
        xyz="0 0 0"
        rpy="0 0 0" />
      <geometry>
        <mesh
          filename="package://ZR_H1PRO-1.2.00.H.V4.3_URDF_2025.12.02/meshes/right_end_effector_link.STL" />
      </geometry>
    </collision>
  </link>
  <joint
    name="right_end_effector_joint"
    type="fixed">
    <origin
      xyz="0.1435 0 0"
      rpy="0 0 0" />
    <parent
      link="right_wrist_pitch_link" />
    <child
      link="right_end_effector_link" />
    <axis
      xyz="0 0 0" />
  </joint>
  <link
    name="neck_yaw_link">
    <inertial>
      <origin
        xyz="-0.00118756 -0.00142144 0.08983028"
        rpy="0 0 0" />
      <mass
        value="0.500718" />
      <inertia
        ixx="0.00087672"
        ixy="2.99e-06"
        ixz="-3.24e-06"
        iyy="0.00084562"
        iyz="-5.84e-06"
        izz="0.00027146" />
    </inertial>
    <visual>
      <origin
        xyz="0 0 0"
        rpy="0 0 0" />
      <geometry>
        <mesh
          filename="package://ZR_H1PRO-1.2.00.H.V4.3_URDF_2025.12.02/meshes/neck_yaw_link.STL" />
      </geometry>
      <material
        name="">
        <color
          rgba="0.34902 0.35686 0.31373 1" />
      </material>
    </visual>
    <collision>
      <origin
        xyz="0 0 0"
        rpy="0 0 0" />
      <geometry>
        <mesh
          filename="package://ZR_H1PRO-1.2.00.H.V4.3_URDF_2025.12.02/meshes/neck_yaw_link.STL" />
      </geometry>
    </collision>
  </link>
  <joint
    name="neck_yaw_joint"
    type="revolute">
    <origin
      xyz="-2.71488271641473E-05 0.000121052292962553 0.2491"
      rpy="0 0 0" />
    <parent
      link="body_yaw_link" />
    <child
      link="neck_yaw_link" />
    <axis
      xyz="0 0 1" />
    <limit
      lower="-1.5708"
      upper="1.5708"
      effort="9"
      velocity="16.747" />
  </joint>
  <link
    name="neck_pitch_link">
    <inertial>
      <origin
        xyz="0.04074346 -0.00094429 0.04406688"
        rpy="0 0 0" />
      <mass
        value="0.85987615" />
      <inertia
        ixx="0.00305527"
        ixy="-3.089e-05"
        ixz="0.00012776"
        iyy="0.00319256"
        iyz="-3.464e-05"
        izz="0.00271799" />
    </inertial>
    <visual>
      <origin
        xyz="0 0 0"
        rpy="0 0 0" />
      <geometry>
        <mesh
          filename="package://ZR_H1PRO-1.2.00.H.V4.3_URDF_2025.12.02/meshes/neck_pitch_link.STL" />
      </geometry>
      <material
        name="">
        <color
          rgba="1 1 1 1" />
      </material>
    </visual>
    <collision>
      <origin
        xyz="0 0 0"
        rpy="0 0 0" />
      <geometry>
        <mesh
          filename="package://ZR_H1PRO-1.2.00.H.V4.3_URDF_2025.12.02/meshes/neck_pitch_link.STL" />
      </geometry>
    </collision>
  </link>
  <joint
    name="neck_pitch_joint"
    type="revolute">
    <origin
      xyz="0 0 0.11"
      rpy="0 0 0" />
    <parent
      link="neck_yaw_link" />
    <child
      link="neck_pitch_link" />
    <axis
      xyz="0 1 0" />
    <limit
      lower="-0.7854"
      upper="0.5236"
      effort="9"
      velocity="16.747" />
  </joint>
  <link
    name="neck_camera_link">
    <inertial>
      <origin
        xyz="0.02975925 8.48e-06 -0.00996785"
        rpy="0 0 0" />
      <mass
        value="0.07123" />
      <inertia
        ixx="6.97e-06"
        ixy="3e-08"
        ixz="1.8e-07"
        iyy="4.688e-05"
        iyz="-4e-08"
        izz="4.697e-05" />
    </inertial>
    <visual>
      <origin
        xyz="0 0 0"
        rpy="0 0 0" />
      <geometry>
        <mesh
          filename="package://ZR_H1PRO-1.2.00.H.V4.3_URDF_2025.12.02/meshes/neck_camera_link.STL" />
      </geometry>
      <material
        name="">
        <color
          rgba="1 1 1 1" />
      </material>
    </visual>
    <collision>
      <origin
        xyz="0 0 0"
        rpy="0 0 0" />
      <geometry>
        <mesh
          filename="package://ZR_H1PRO-1.2.00.H.V4.3_URDF_2025.12.02/meshes/neck_camera_link.STL" />
      </geometry>
    </collision>
  </link>
  <joint
    name="neck_camera_joint"
    type="fixed">
    <origin
      xyz="0.0675568573382885 0.0324999999999979 -0.0363332072227294"
      rpy="-1.78023593389281 0 -1.5707963267949" />
    <parent
      link="neck_pitch_link" />
    <child
      link="neck_camera_link" />
    <axis
      xyz="0 0 0" />
  </joint>
  <link
    name="left_front_wheel_link">
    <inertial>
      <origin
        xyz="0.0 0.0 0.0"
        rpy="0 0 0" />
      <mass
        value="0.16" />
      <inertia
        ixx="6.766e-05"
        ixy="-0.0"
        ixz="-0.0"
        iyy="7.514e-05"
        iyz="-0.0"
        izz="6.766e-05" />
    </inertial>
    <visual>
      <origin
        xyz="0 0 0"
        rpy="0 0 0" />
      <geometry>
        <mesh
          filename="package://ZR_H1PRO-1.2.00.H.V4.3_URDF_2025.12.02/meshes/left_front_wheel_link.STL" />
      </geometry>
      <material
        name="">
        <color
          rgba="0.6902 0.6902 0.6902 1" />
      </material>
    </visual>
    <collision>
      <origin
        xyz="0 0 0"
        rpy="0 0 0" />
      <geometry>
        <mesh
          filename="package://ZR_H1PRO-1.2.00.H.V4.3_URDF_2025.12.02/meshes/left_front_wheel_link.STL" />
      </geometry>
    </collision>
  </link>
  <joint
    name="left_front_wheel_joint"
    type="fixed">
    <origin
      xyz="0.184 0.148 -0.156"
      rpy="0 0 0" />
    <parent
      link="dipan_link" />
    <child
      link="left_front_wheel_link" />
    <axis
      xyz="0 0 0" />
    <limit
      effort="0"
      velocity="0" />
  </joint>
  <link
    name="left_middle_wheel_link">
    <inertial>
      <origin
        xyz="0.0 0.00140713 0.0"
        rpy="0 0 0" />
      <mass
        value="2.0" />
      <inertia
        ixx="0.00516956"
        ixy="-0.0"
        ixz="-0.0"
        iyy="0.00976607"
        iyz="-0.0"
        izz="0.00516956" />
    </inertial>
    <visual>
      <origin
        xyz="0 0 0"
        rpy="0 0 0" />
      <geometry>
        <mesh
          filename="package://ZR_H1PRO-1.2.00.H.V4.3_URDF_2025.12.02/meshes/left_middle_wheel_link.STL" />
      </geometry>
      <material
        name="">
        <color
          rgba="1 1 1 1" />
      </material>
    </visual>
    <collision>
      <origin
        xyz="0 0 0"
        rpy="0 0 0" />
      <geometry>
        <mesh
          filename="package://ZR_H1PRO-1.2.00.H.V4.3_URDF_2025.12.02/meshes/left_middle_wheel_link.STL" />
      </geometry>
    </collision>
  </link>
  <joint
    name="left_middle_wheel_joint"
    type="continuous">
    <origin
      xyz="0.0544 0.1895 -0.0965"
      rpy="0 0 0" />
    <parent
      link="dipan_link" />
    <child
      link="left_middle_wheel_link" />
    <axis
      xyz="0 1 0" />
    <limit
      effort="60"
      velocity="2.3" />
  </joint>
  <link
    name="left_rear_wheel_link">
    <inertial>
      <origin
        xyz="0.0 0.0 0.0"
        rpy="0 0 0" />
      <mass
        value="0.12" />
      <inertia
        ixx="4.893e-05"
        ixy="-0.0"
        ixz="-0.0"
        iyy="4.906e-05"
        iyz="-0.0"
        izz="4.938e-05" />
    </inertial>
    <visual>
      <origin
        xyz="0 0 0"
        rpy="0 0 0" />
      <geometry>
        <mesh
          filename="package://ZR_H1PRO-1.2.00.H.V4.3_URDF_2025.12.02/meshes/left_rear_wheel_link.STL" />
      </geometry>
      <material
        name="">
        <color
          rgba="1 1 1 1" />
      </material>
    </visual>
    <collision>
      <origin
        xyz="0 0 0"
        rpy="0 0 0" />
      <geometry>
        <mesh
          filename="package://ZR_H1PRO-1.2.00.H.V4.3_URDF_2025.12.02/meshes/left_rear_wheel_link.STL" />
      </geometry>
    </collision>
  </link>
  <joint
    name="left_rear_wheel_joint"
    type="fixed">
    <origin
      xyz="-0.1465 0.151 -0.155"
      rpy="0 0 0" />
    <parent
      link="dipan_link" />
    <child
      link="left_rear_wheel_link" />
    <axis
      xyz="0 0 0" />
    <limit
      lower="0"
      upper="0"
      effort="0"
      velocity="0" />
  </joint>
  <link
    name="right_front_wheel_link">
    <inertial>
      <origin
        xyz="0.0 0.0 0.0"
        rpy="0 0 0" />
      <mass
        value="0.16" />
      <inertia
        ixx="6.766e-05"
        ixy="-0.0"
        ixz="-0.0"
        iyy="7.514e-05"
        iyz="-0.0"
        izz="6.766e-05" />
    </inertial>
    <visual>
      <origin
        xyz="0 0 0"
        rpy="0 0 0" />
      <geometry>
        <mesh
          filename="package://ZR_H1PRO-1.2.00.H.V4.3_URDF_2025.12.02/meshes/right_front_wheel_link.STL" />
      </geometry>
      <material
        name="">
        <color
          rgba="0.6902 0.6902 0.6902 1" />
      </material>
    </visual>
    <collision>
      <origin
        xyz="0 0 0"
        rpy="0 0 0" />
      <geometry>
        <mesh
          filename="package://ZR_H1PRO-1.2.00.H.V4.3_URDF_2025.12.02/meshes/right_front_wheel_link.STL" />
      </geometry>
    </collision>
  </link>
  <joint
    name="right_front_wheel_joint"
    type="fixed">
    <origin
      xyz="0.184 -0.148 -0.156"
      rpy="0 0 0" />
    <parent
      link="dipan_link" />
    <child
      link="right_front_wheel_link" />
    <axis
      xyz="0 0 0" />
  </joint>
  <link
    name="right_middle_wheel_link">
    <inertial>
      <origin
        xyz="0.0 -0.00140713 0.0"
        rpy="0 0 0" />
      <mass
        value="2.0" />
      <inertia
        ixx="0.00516956"
        ixy="-0.0"
        ixz="-0.0"
        iyy="0.00976607"
        iyz="-0.0"
        izz="0.00516956" />
    </inertial>
    <visual>
      <origin
        xyz="0 0 0"
        rpy="0 0 0" />
      <geometry>
        <mesh
          filename="package://ZR_H1PRO-1.2.00.H.V4.3_URDF_2025.12.02/meshes/right_middle_wheel_link.STL" />
      </geometry>
      <material
        name="">
        <color
          rgba="1 1 1 1" />
      </material>
    </visual>
    <collision>
      <origin
        xyz="0 0 0"
        rpy="0 0 0" />
      <geometry>
        <mesh
          filename="package://ZR_H1PRO-1.2.00.H.V4.3_URDF_2025.12.02/meshes/right_middle_wheel_link.STL" />
      </geometry>
    </collision>
  </link>
  <joint
    name="right_middle_wheel_joint"
    type="continuous">
    <origin
      xyz="0.0544 -0.1895 -0.0965"
      rpy="0 0 0" />
    <parent
      link="dipan_link" />
    <child
      link="right_middle_wheel_link" />
    <axis
      xyz="0 -1 0" />
    <limit
      effort="60"
      velocity="2.3" />
  </joint>
  <link
    name="right_rear_wheel_link">
    <inertial>
      <origin
        xyz="0.0 0.0 0.0"
        rpy="0 0 0" />
      <mass
        value="0.12" />
      <inertia
        ixx="4.893e-05"
        ixy="-0.0"
        ixz="-0.0"
        iyy="4.906e-05"
        iyz="-0.0"
        izz="4.938e-05" />
    </inertial>
    <visual>
      <origin
        xyz="0 0 0"
        rpy="0 0 0" />
      <geometry>
        <mesh
          filename="package://ZR_H1PRO-1.2.00.H.V4.3_URDF_2025.12.02/meshes/right_rear_wheel_link.STL" />
      </geometry>
      <material
        name="">
        <color
          rgba="1 1 1 1" />
      </material>
    </visual>
    <collision>
      <origin
        xyz="0 0 0"
        rpy="0 0 0" />
      <geometry>
        <mesh
          filename="package://ZR_H1PRO-1.2.00.H.V4.3_URDF_2025.12.02/meshes/right_rear_wheel_link.STL" />
      </geometry>
    </collision>
  </link>
  <joint
    name="right_rear_wheel_joint"
    type="fixed">
    <origin
      xyz="-0.1465 -0.151 -0.155"
      rpy="0 0 0" />
    <parent
      link="dipan_link" />
    <child
      link="right_rear_wheel_link" />
    <axis
      xyz="0 0 0" />
  </joint>
</robot>
